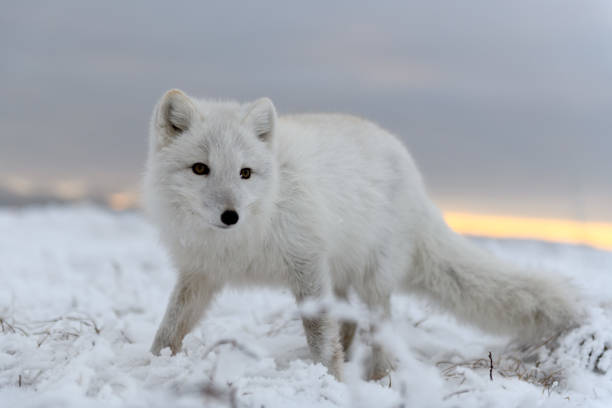arcticfox: (170, 115, 282, 257)
